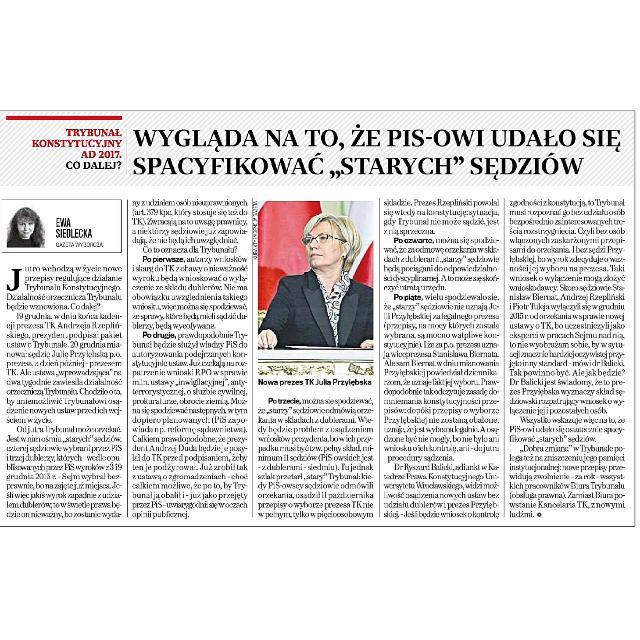author: (54, 214, 98, 240)
body: (130, 195, 252, 520), (507, 196, 629, 520), (382, 196, 502, 520), (3, 258, 125, 522), (256, 393, 376, 521)
caption: (256, 378, 374, 388)
image: (255, 198, 378, 378)
title: (28, 123, 630, 183)
